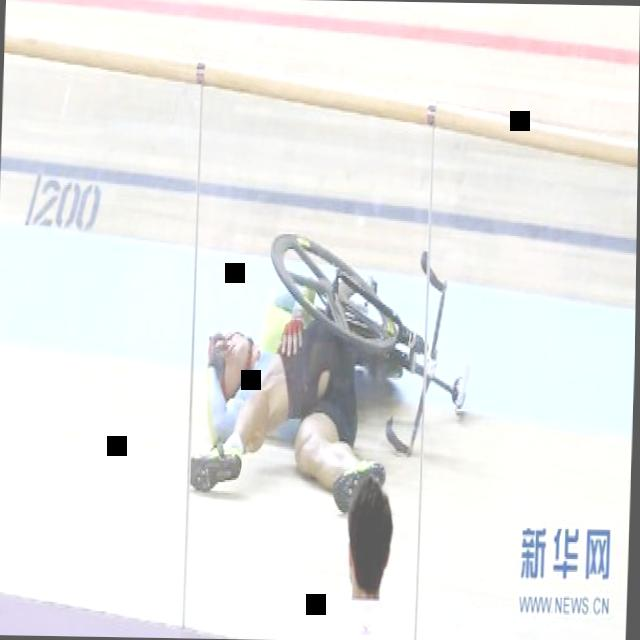Fall-Detected: (178, 262, 404, 521)
